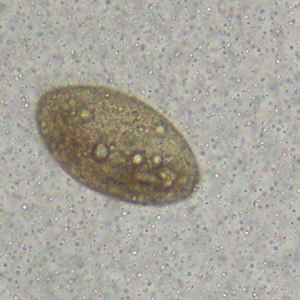Fasciola_hepatica_egg: (35, 83, 201, 208)
